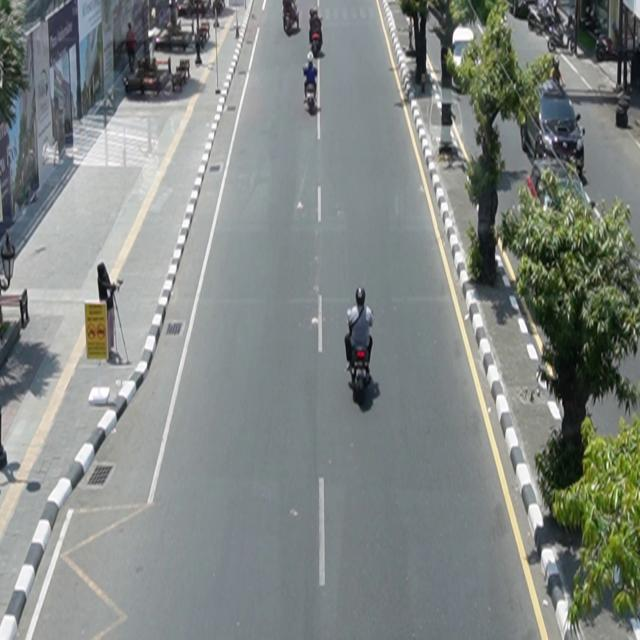car: (521, 78, 586, 175), (447, 26, 481, 93)
